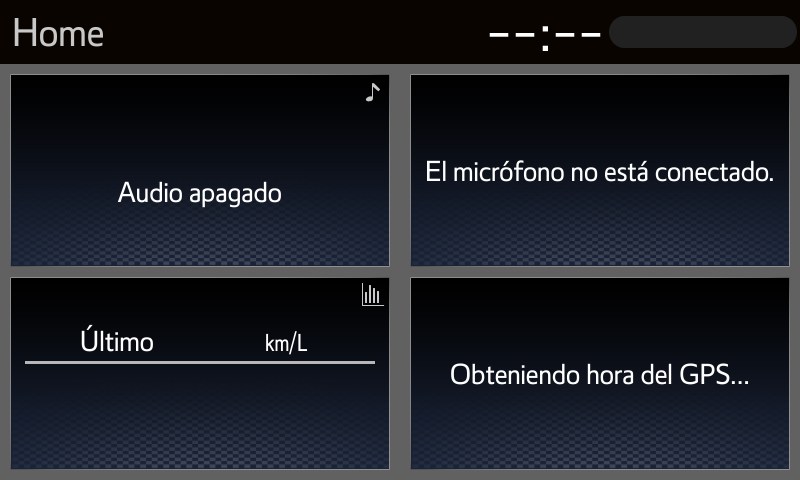touchPart: (405, 275, 792, 472), (409, 74, 791, 269), (10, 73, 391, 267), (9, 276, 389, 470)
untouchPart: (484, 10, 794, 58), (9, 14, 116, 54)
